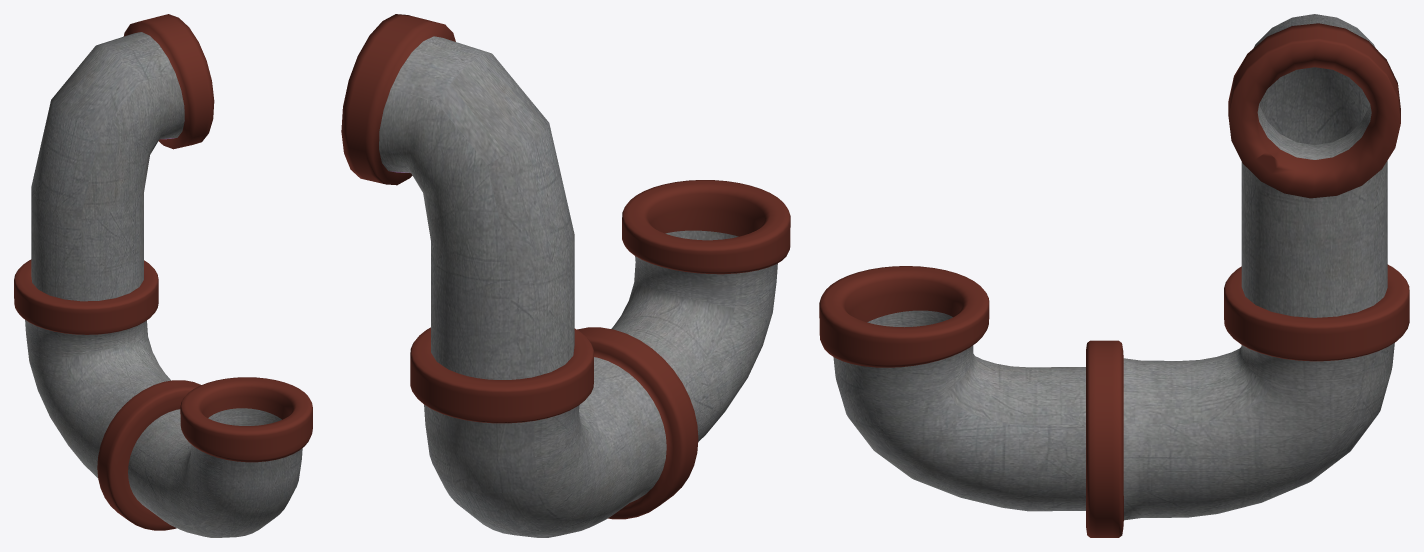
File: pipe.fbx
3 renders of one model, left to right at view 1: azimuth 30°, elevation 25°; view 2: azimuth 150°, elevation 25°; view 3: azimuth 270°, elevation 25°, orthographic. The views are drawn at different scales.
Visible parts, largest first — view 1: pPipe4; view 2: pPipe4; view 3: pPipe4.
Part boxes in pixels (left/top/right/bottom): pPipe4: left=14, top=14, right=312, bottom=537; pPipe4: left=341, top=14, right=790, bottom=537; pPipe4: left=819, top=14, right=1409, bottom=537.
Bounding box in the file's own units: 1.55 × 3.93 × 3.86.
4 materials, 1 textured.
